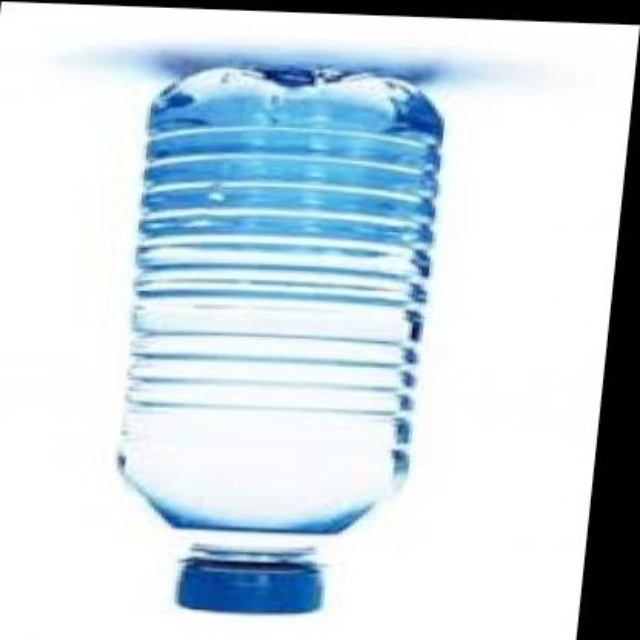trash: (118, 66, 442, 532), (178, 545, 320, 611)
